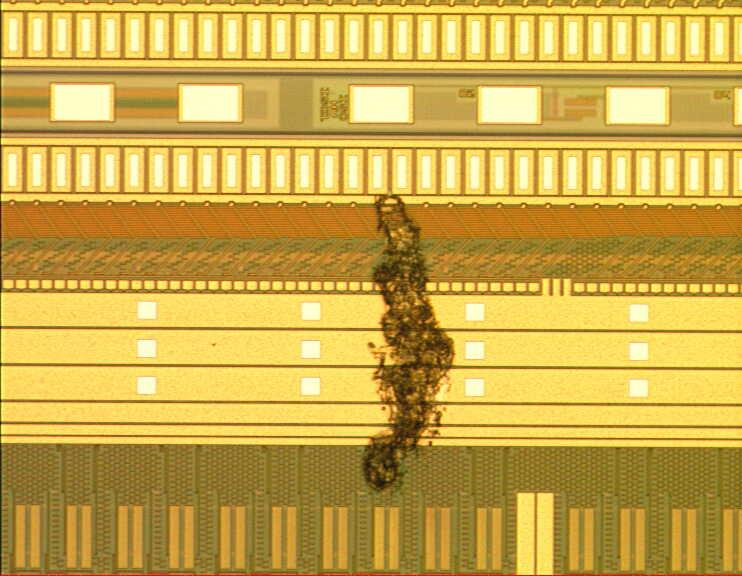SCRATCH: (359, 191, 458, 495)
